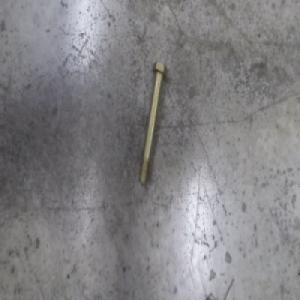Bolt: (138, 60, 168, 186)
